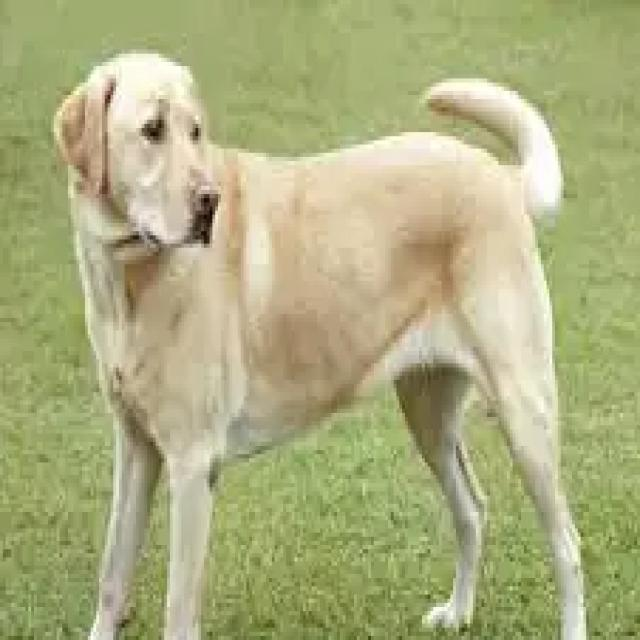dog: (51, 40, 588, 640)
